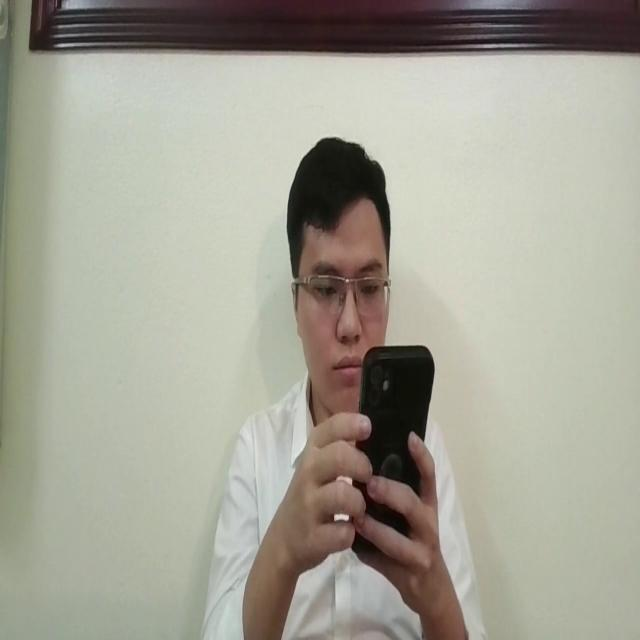phone: (345, 336, 435, 561)
student: (208, 126, 487, 640)
